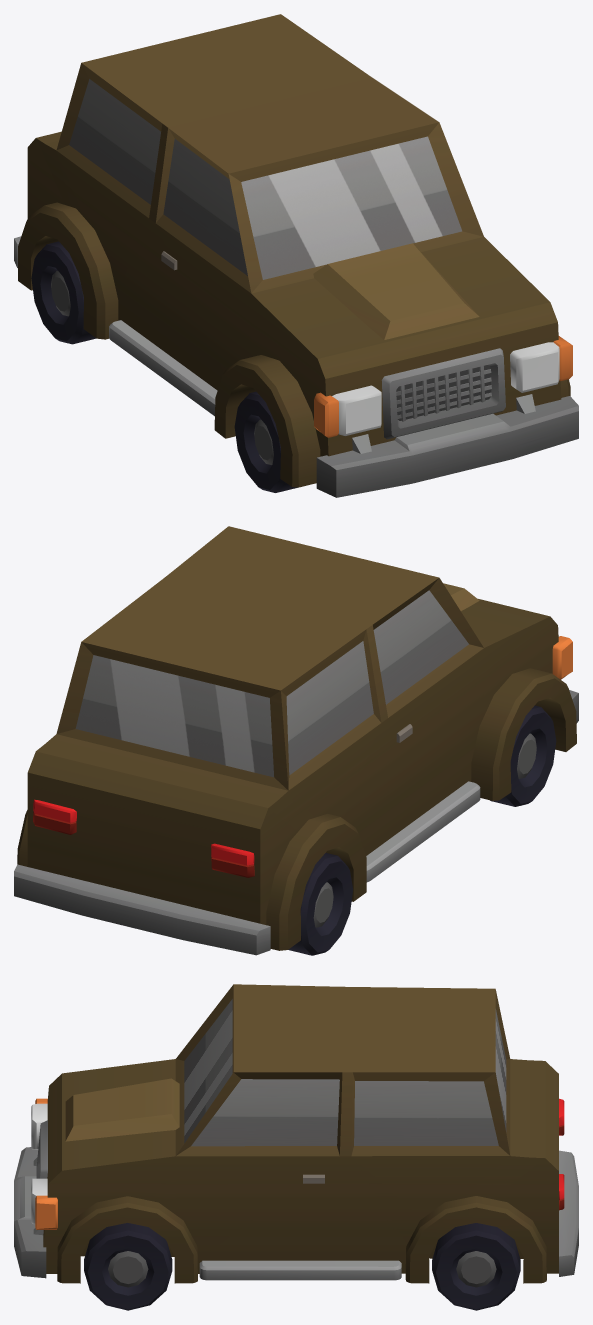
The model's file is Car_3_6.glb.
3 renders of one model, top to bottom at view 1: azimuth 30°, elevation 25°; view 2: azimuth 150°, elevation 25°; view 3: azimuth 270°, elevation 25°, orthographic. The views are drawn at different scales.
Parts seen in each view (by area): view 1: Car_3_6, Wheel_Br, Wheel_Fr; view 2: Car_3_6, Wheel_Br, Wheel_Fr; view 3: Car_3_6, Wheel_Bl, Wheel_Fl.
Boxes of the visible parts, x1,y1,x2,y2 form: Car_3_6: (14, 14, 578, 497); Wheel_Br: (31, 241, 96, 344); Wheel_Fr: (234, 391, 297, 492); Car_3_6: (14, 526, 578, 955); Wheel_Br: (288, 853, 353, 955); Wheel_Fr: (490, 705, 556, 806); Car_3_6: (14, 984, 578, 1283); Wheel_Bl: (432, 1223, 520, 1310); Wheel_Fl: (84, 1223, 172, 1310).
Size of the model in its own units: 1.13 by 1.02 by 2.3.
6 materials, 6 textured.
